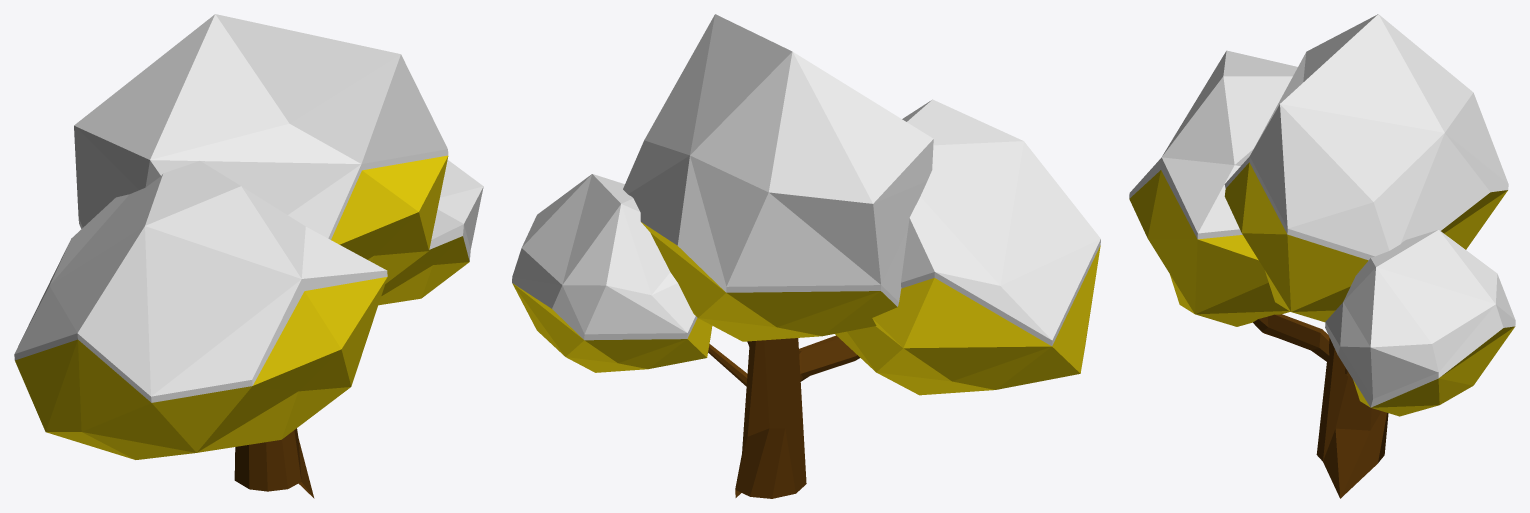
The model's file is Bush#12_Snow.fbx.
3 renders of one model, left to right at view 1: azimuth 30°, elevation 25°; view 2: azimuth 150°, elevation 25°; view 3: azimuth 270°, elevation 25°, orthographic. The views are drawn at different scales.
Visible parts, largest first — view 1: Bush#12_Snow; view 2: Bush#12_Snow; view 3: Bush#12_Snow.
Part boxes in pixels (x1,y1,x2,y2): Bush#12_Snow: [14, 14, 483, 498]; Bush#12_Snow: [512, 14, 1100, 498]; Bush#12_Snow: [1129, 14, 1515, 498].
Size of the model in its own units: 207 by 194 by 151.
